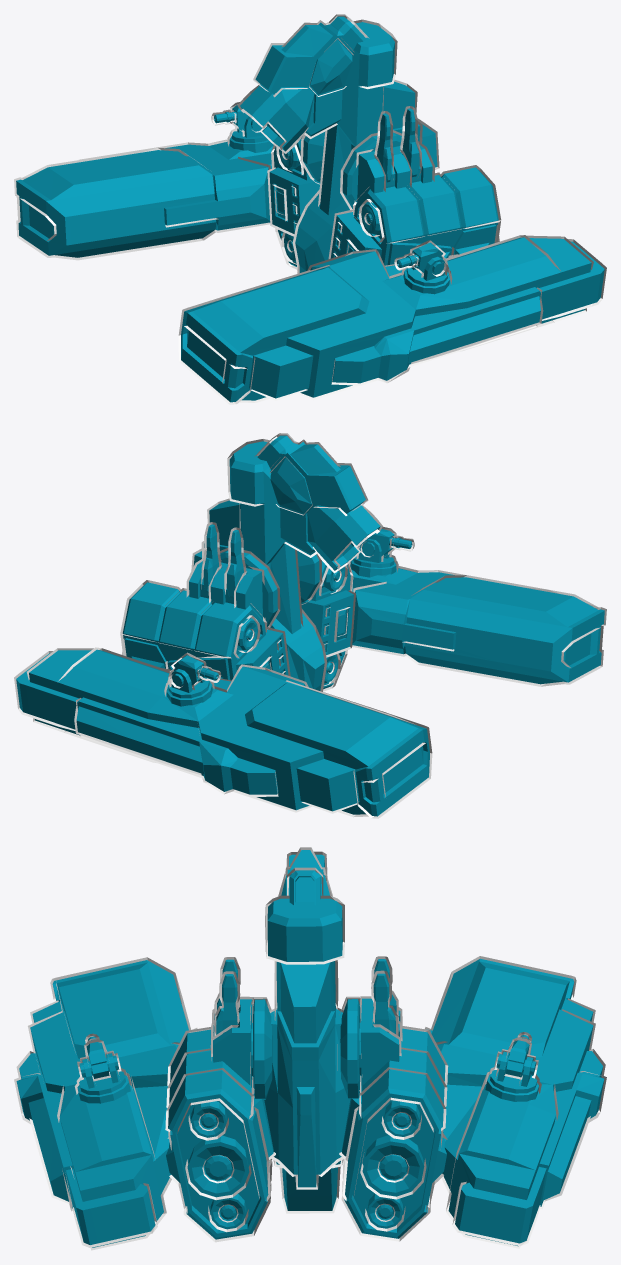
File: ship4_blue.glb
3 renders of one model, top to bottom at view 1: azimuth 30°, elevation 25°; view 2: azimuth 150°, elevation 25°; view 3: azimuth 270°, elevation 25°, orthographic. The views are drawn at different scales.
Visible parts, largest first — view 1: ME_ship_IndexedFaceSet; view 2: ME_ship_IndexedFaceSet; view 3: ME_ship_IndexedFaceSet.
Part boxes in pixels (x1=…): ME_ship_IndexedFaceSet: x1=14, y1=14, x2=606, y2=404; ME_ship_IndexedFaceSet: x1=14, y1=433, x2=606, y2=818; ME_ship_IndexedFaceSet: x1=14, y1=847, x2=606, y2=1250.
Size of the model in its own units: 352 by 257 by 398.
